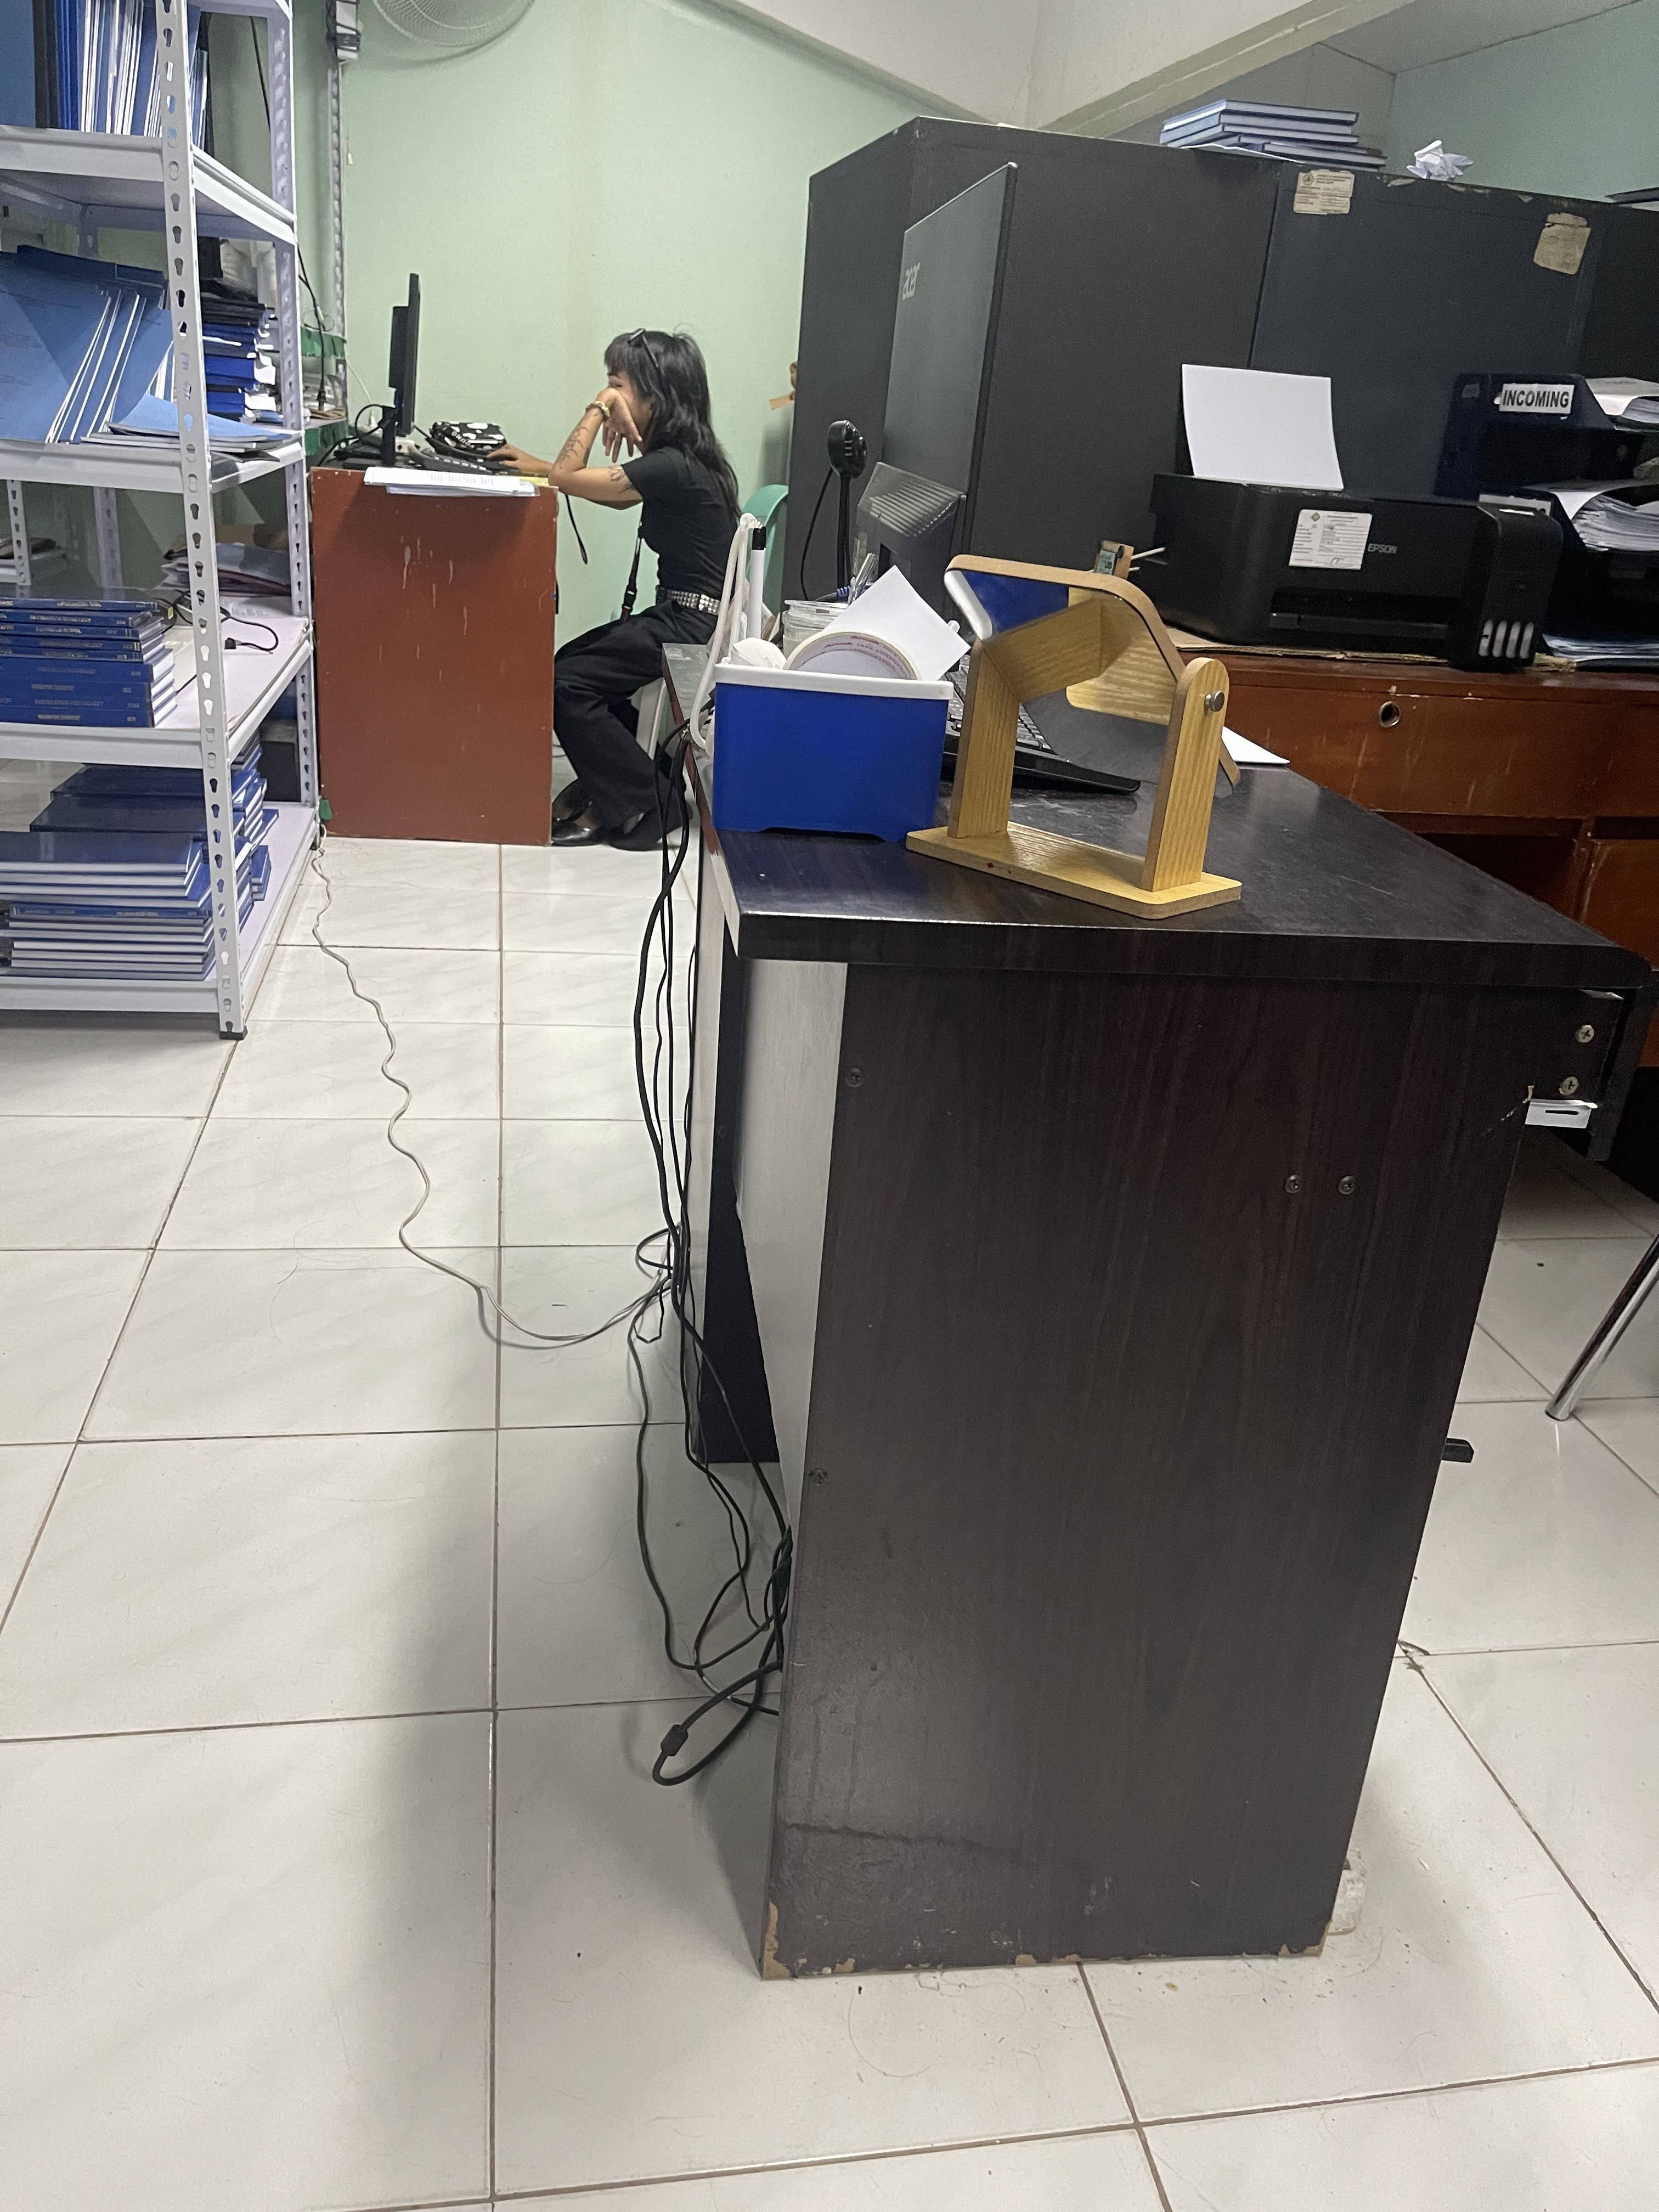table1: (636, 625, 1640, 1993)
